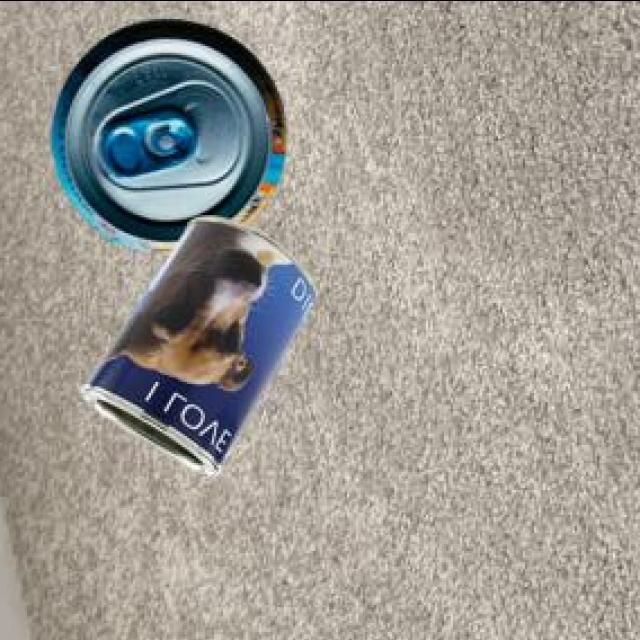logam: (78, 213, 314, 472), (48, 15, 283, 251)
